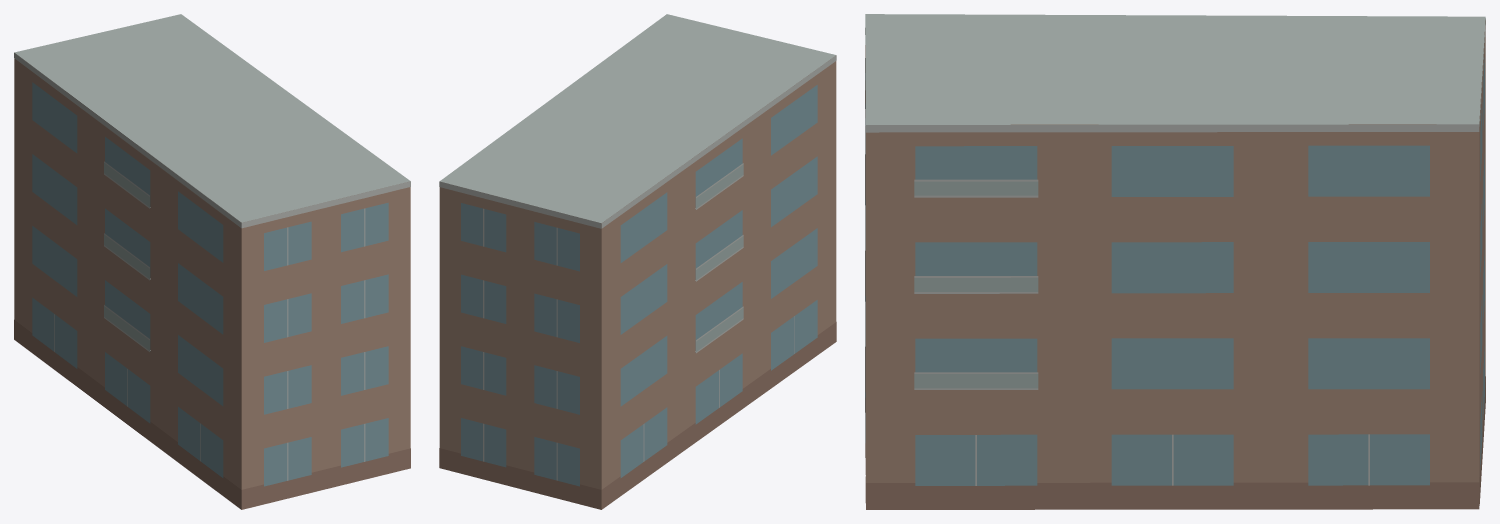
File: survey-upis-32742595.glb
3 renders of one model, left to right at view 1: azimuth 30°, elevation 25°; view 2: azimuth 150°, elevation 25°; view 3: azimuth 270°, elevation 25°, orthographic. The views are drawn at different scales.
Visible parts, largest first — view 1: survey-upis-32742595.tmp; view 2: survey-upis-32742595.tmp; view 3: survey-upis-32742595.tmp.
Boxes of the visible parts, x1,y1,x2,y2 form: survey-upis-32742595.tmp: (14,14,410,509); survey-upis-32742595.tmp: (439,14,836,509); survey-upis-32742595.tmp: (865,14,1485,509).
Bounding box in the file's own units: 7.7 × 12.4 × 18.13.
